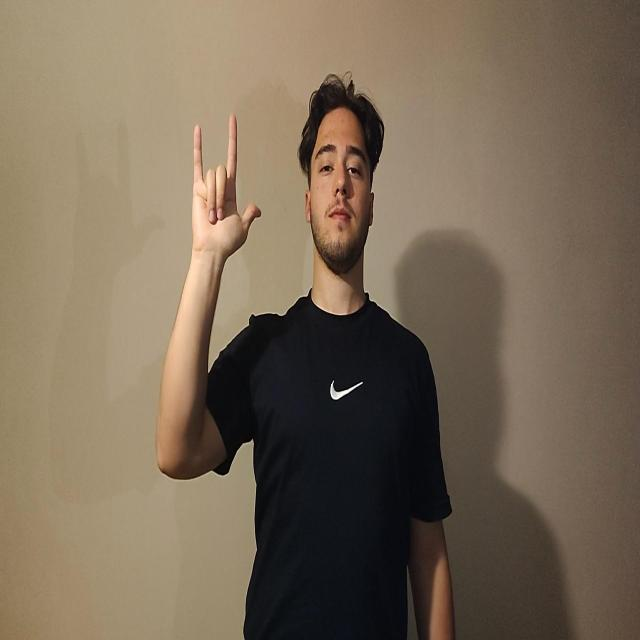iloveyou: (190, 112, 262, 265)
